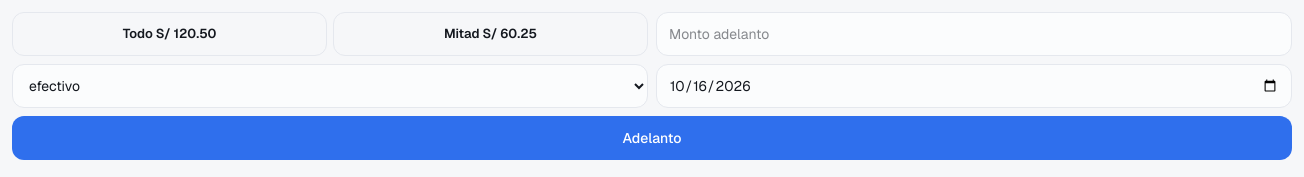
AbonoForm — atajos de monto › «Todo» llena el saldo exacto
This screenshot has width=1304, height=177.
Click the button "Todo S/ 120.50": (170, 34) x1=12 y1=12 x2=327 y2=56
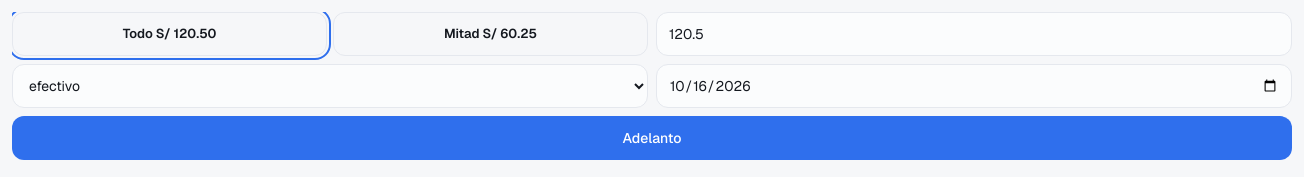
Expected: the number field named "monto" holds "120.5", x1=656 y1=12 x2=1292 y2=56
